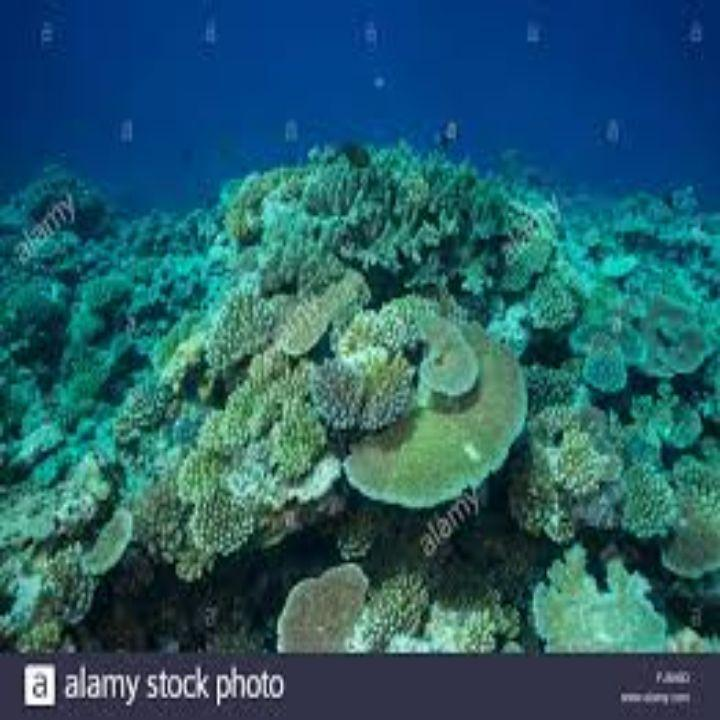Healthy Coral: (33, 180, 685, 569)
